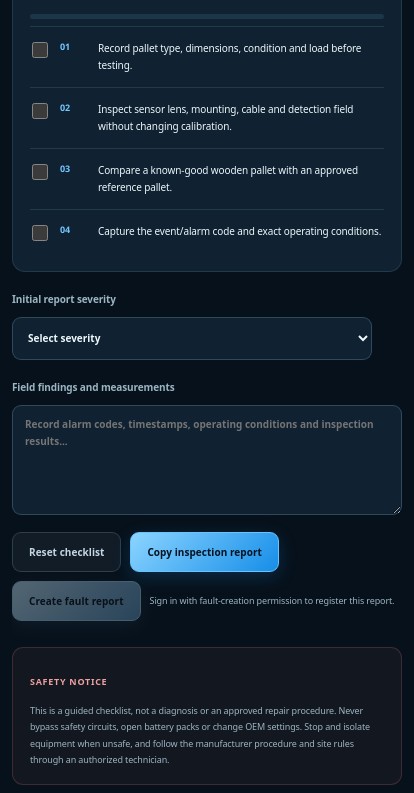
Test case: DiagnosticWorkbench › does not claim to save a diagnosis when clipboard access is unavailable
This screenshot has width=414, height=793.
(page scrolled)
Click the button "Copy inspection report".
click(205, 552)  # box x1=130 y1=532 x2=279 y2=572
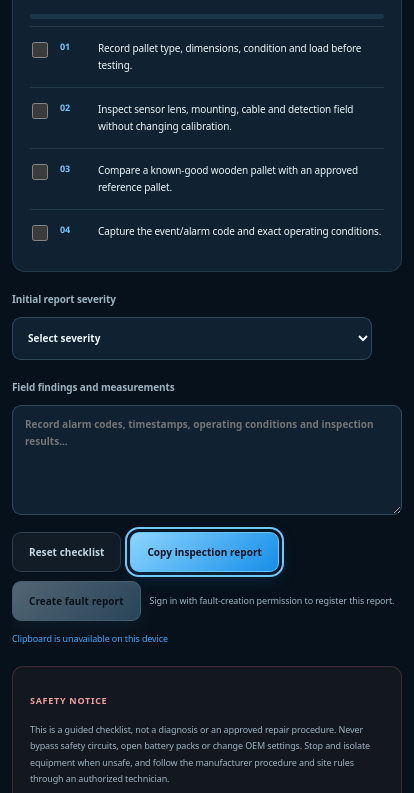
Expected: the text "Clipboard is unavailable on this device" is shown, x1=12 y1=630 x2=168 y2=649
